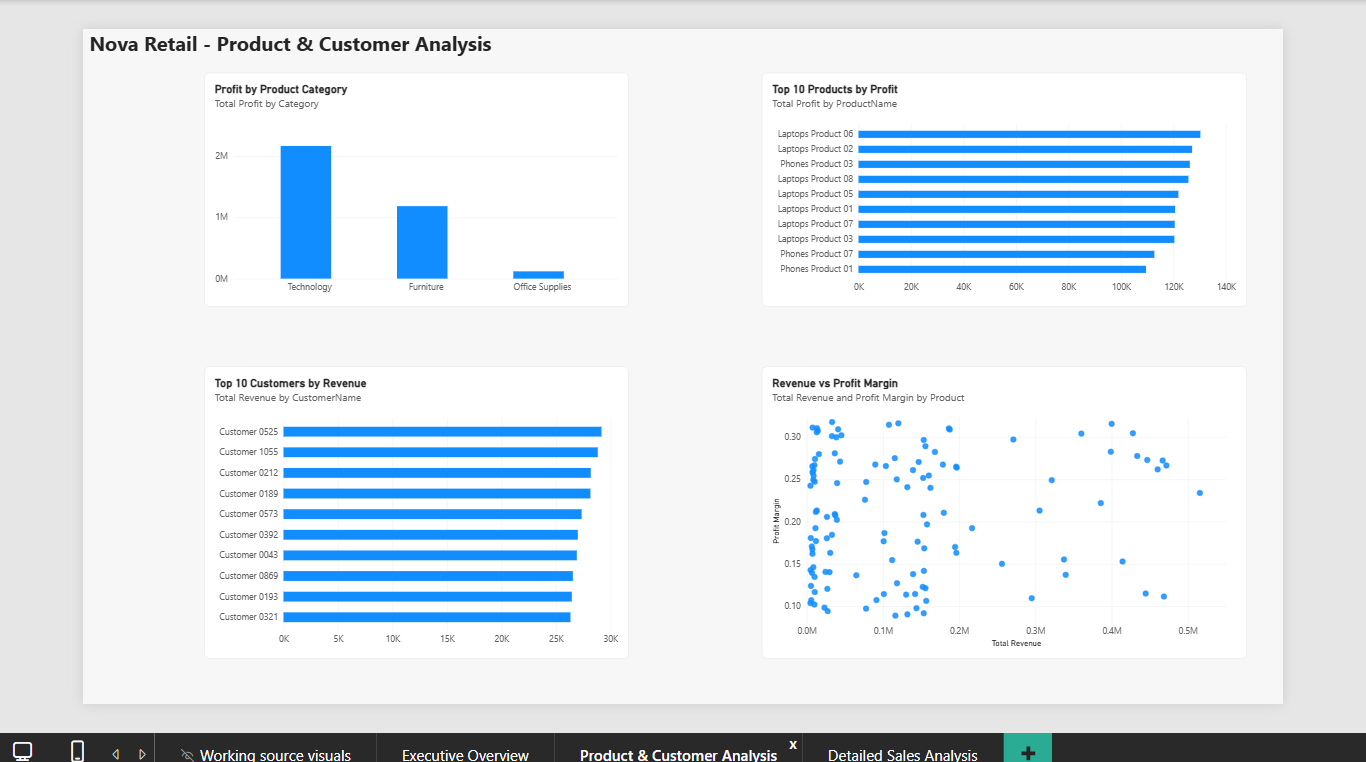

The dashboard page shown, as its layout file describes it:
{"tool":"powerbi","page":{"name":"Product  & Customer Analysis","canvas":[1920,1080],"ordinal":2},"visuals":[{"type":"textbox","box":[10.3,0,699.8,70],"z":0},{"type":"clusteredColumnChart","title":"Profit by Product Category","fields":{"Category":["Products.Category"],"Y":["Sales_Raw.Total Profit"]},"box":[193.5,70,679.2,374.6],"z":1000},{"type":"clusteredBarChart","title":"Top 10 Products by Profit","fields":{"Category":["Products.ProductName"],"Y":["Sales_Raw.Total Profit"]},"box":[1086.8,70,776,374.6],"z":2000},{"type":"clusteredBarChart","title":"Top 10 Customers by Revenue","fields":{"Category":["Customers.CustomerName"],"Y":["Sales_Raw.Total Revenue"]},"box":[193.5,539.3,679.2,467.2],"z":3000},{"type":"scatterChart","title":"Revenue vs Profit Margin","fields":{"X":["Sales_Raw.Total Revenue"],"Y":["Sales_Raw.Profit Margin"],"Category":["Products.ProductName"]},"box":[1086.8,539.3,776,467.2],"z":4000}]}

Visuals, with their boxes on the page's 1920x1080 design canvas (x1, y1, x2, y2). These are canvas units, not pixel positions in the 1366x762 screenshot, which may show the page scaled, cropped or inside an application window:
textbox: 10,0,710,70
"Profit by Product Category" clusteredColumnChart: 194,70,873,445
"Top 10 Products by Profit" clusteredBarChart: 1087,70,1863,445
"Top 10 Customers by Revenue" clusteredBarChart: 194,539,873,1006
"Revenue vs Profit Margin" scatterChart: 1087,539,1863,1006
